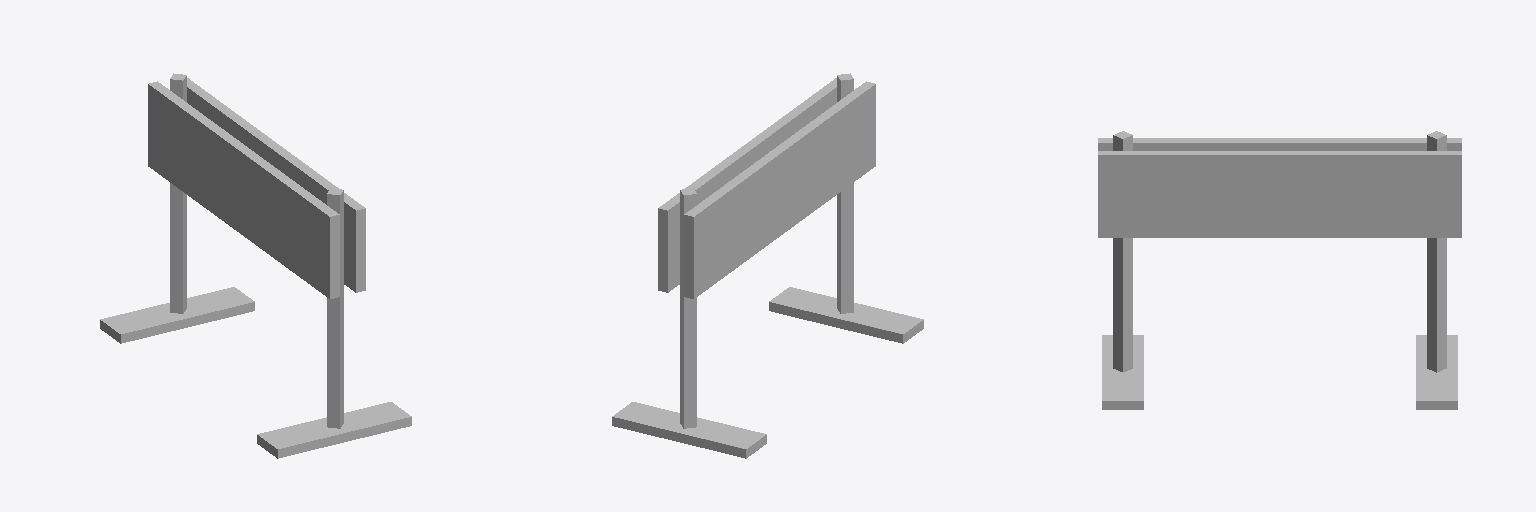
The model's file is bannerLow.obj.
3 renders of one model, left to right at view 1: azimuth 30°, elevation 25°; view 2: azimuth 150°, elevation 25°; view 3: azimuth 270°, elevation 25°, orthographic.
Visible parts, largest first — view 1: Low; view 2: Low; view 3: Low.
Part boxes in pixels (left/top/right/bottom): Low: left=100, top=73, right=411, bottom=458; Low: left=612, top=73, right=923, bottom=458; Low: left=1098, top=131, right=1461, bottom=409.
Bounding box in the file's own units: 2.67 × 4.61 × 6.27.